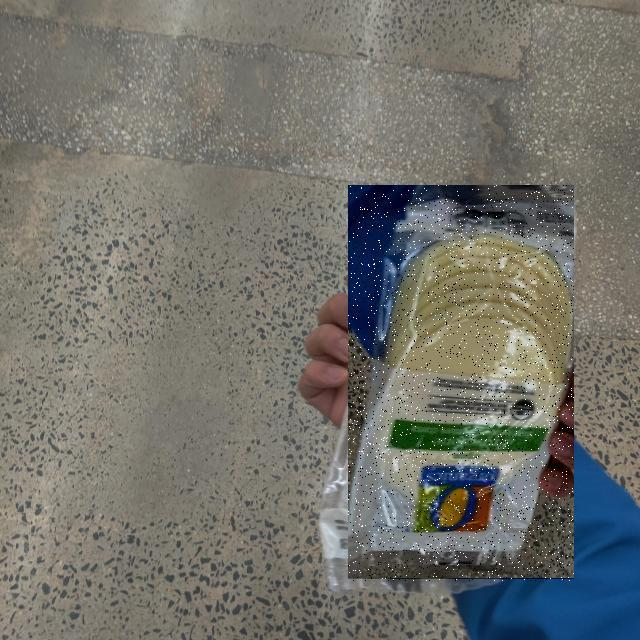Tofu: (349, 186, 575, 582)
